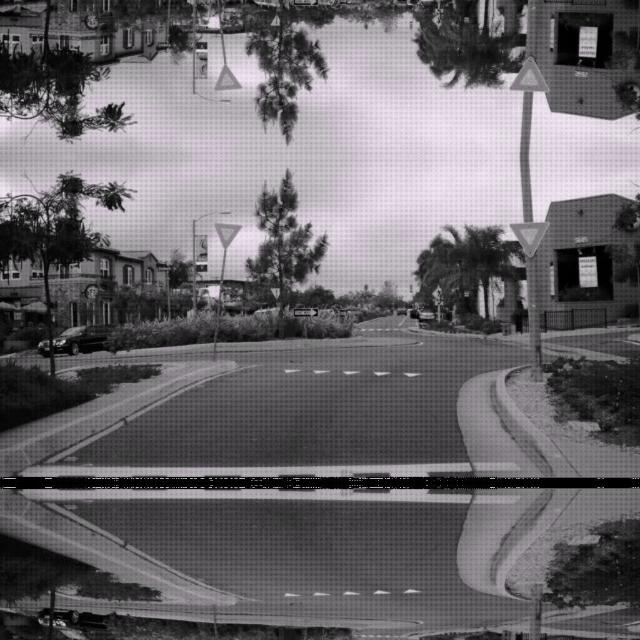pedestrianCrossing: (431, 284, 447, 300), (431, 12, 447, 28)
yield: (508, 220, 550, 256), (508, 56, 550, 92), (212, 220, 242, 248), (212, 64, 242, 92)
